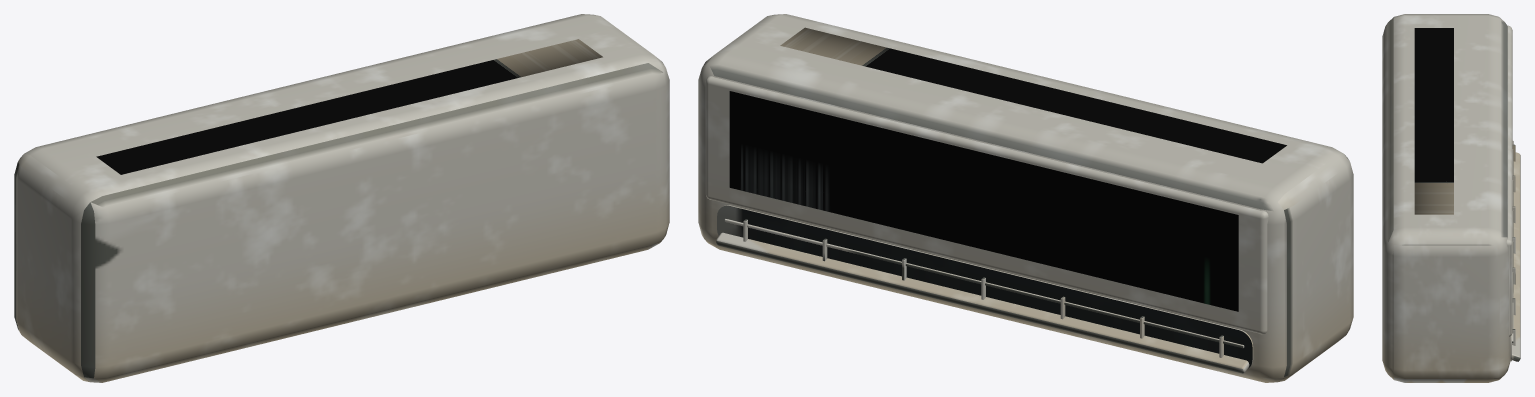
The model's file is ar_split_sujo_realista.glb.
3 renders of one model, left to right at view 1: azimuth 30°, elevation 25°; view 2: azimuth 150°, elevation 25°; view 3: azimuth 270°, elevation 25°, orthographic. The views are drawn at different scales.
Visible parts, largest first — view 1: Gabinete com cantos arredondados, Grelha de admissao; view 2: Gabinete com cantos arredondados, Display e identificacao, Tampa frontal, Abertura de insuflamento, Grelha de admissao, Defletor movel, Lamina interna de ar; view 3: Gabinete com cantos arredondados, Grelha de admissao, Defletor movel, Tampa frontal, Lamina interna de ar.
Boxes of the visible parts, x1,y1,x2,y2 form: Gabinete com cantos arredondados: (14, 14, 669, 382); Grelha de admissao: (96, 39, 602, 174); Gabinete com cantos arredondados: (698, 14, 1353, 382); Display e identificacao: (729, 91, 1238, 311); Tampa frontal: (705, 76, 1268, 334); Abertura de insuflamento: (717, 205, 1253, 368); Grelha de admissao: (780, 27, 1286, 163); Defletor movel: (716, 232, 1249, 373); Lamina interna de ar: (724, 219, 1244, 348); Gabinete com cantos arredondados: (1382, 14, 1510, 382); Grelha de admissao: (1414, 28, 1453, 214); Defletor movel: (1512, 152, 1520, 361); Tampa frontal: (1506, 25, 1512, 336); Lamina interna de ar: (1512, 141, 1513, 342).
Bounding box in the file's own units: 0.9 × 0.2805 × 0.2281.
Materials: 1 (1 with a texture image).
